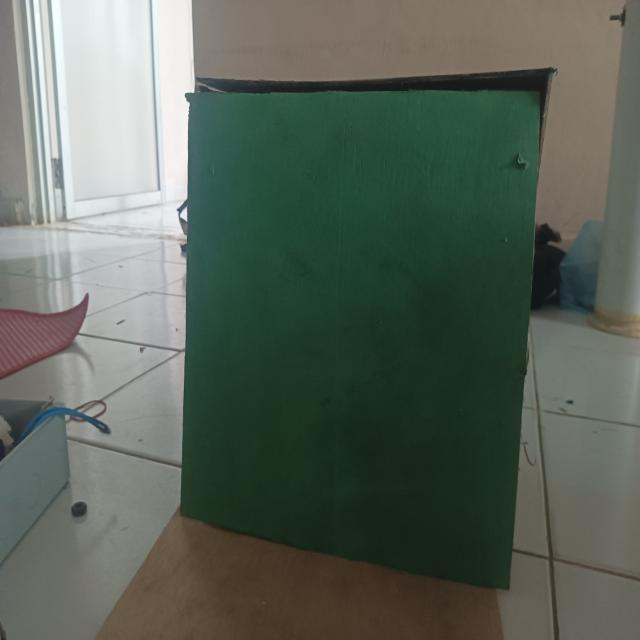green_box: (175, 68, 541, 591)
